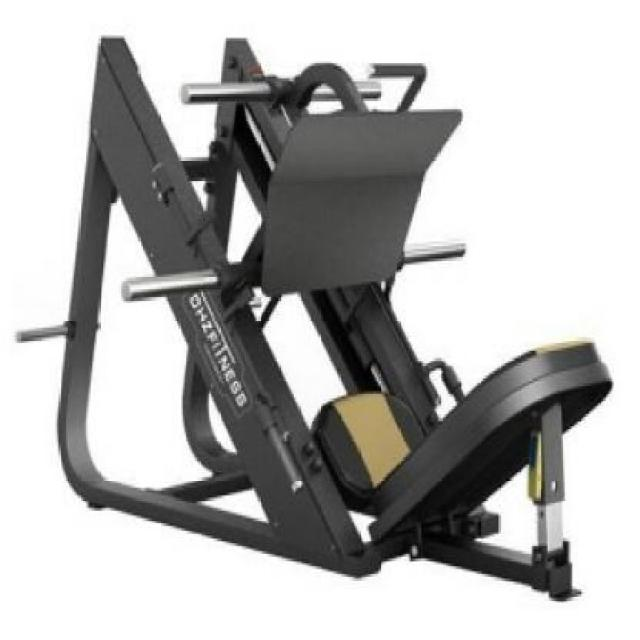leg press: (11, 26, 623, 612)
